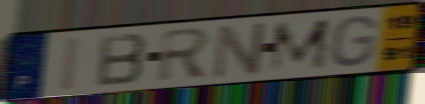B: (95, 31, 151, 89)
G: (328, 14, 379, 69)
I: (56, 34, 84, 93)
M: (266, 16, 332, 75)
N: (209, 20, 269, 82)
R: (155, 26, 213, 84)
